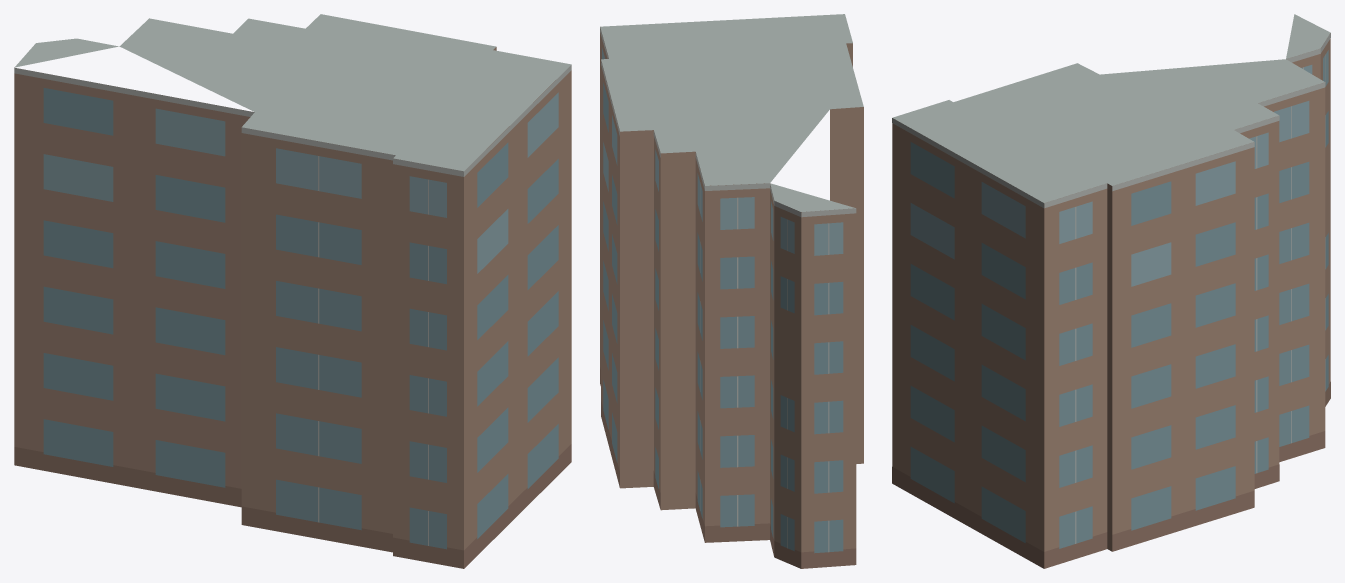
Rendered from survey-upis-32529373.glb.
The picture shows the model from 3 angles, left to right: view 1: azimuth 30°, elevation 25°; view 2: azimuth 150°, elevation 25°; view 3: azimuth 270°, elevation 25°; orthographic projection. The views are drawn at different scales.
Parts seen in each view (by area): view 1: survey-upis-32529373.tmp; view 2: survey-upis-32529373.tmp; view 3: survey-upis-32529373.tmp.
Part boxes in pixels (x1,y1,x2,y2): survey-upis-32529373.tmp: [14, 14, 571, 568]; survey-upis-32529373.tmp: [600, 14, 863, 568]; survey-upis-32529373.tmp: [892, 14, 1330, 568].
Size of the model in its own units: 18.81 by 16.95 by 18.43.
